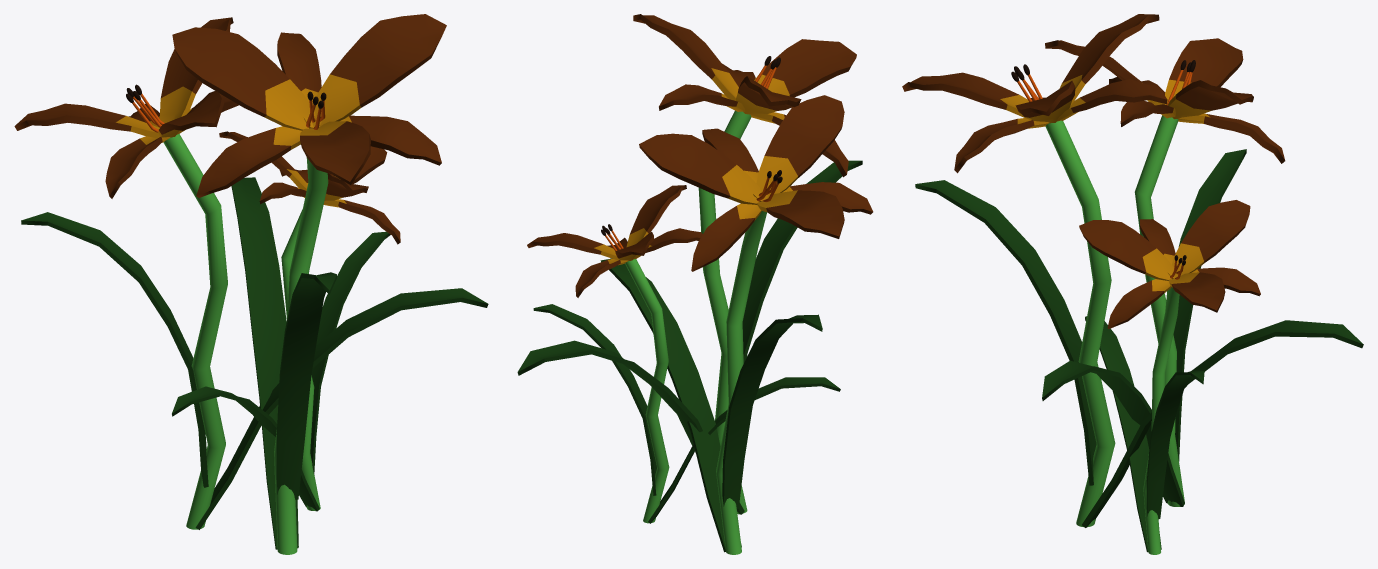
File: lilies.fbx
3 renders of one model, left to right at view 1: azimuth 30°, elevation 25°; view 2: azimuth 150°, elevation 25°; view 3: azimuth 270°, elevation 25°, orthographic. The views are drawn at different scales.
Parts seen in each view (by area): view 1: lilies; view 2: lilies; view 3: lilies.
Part boxes in pixels (x1,y1,x2,y2): lilies: (14, 14, 488, 554); lilies: (517, 14, 873, 554); lilies: (902, 14, 1363, 554).
Size of the model in its own units: 1.28 by 1.71 by 1.47.
